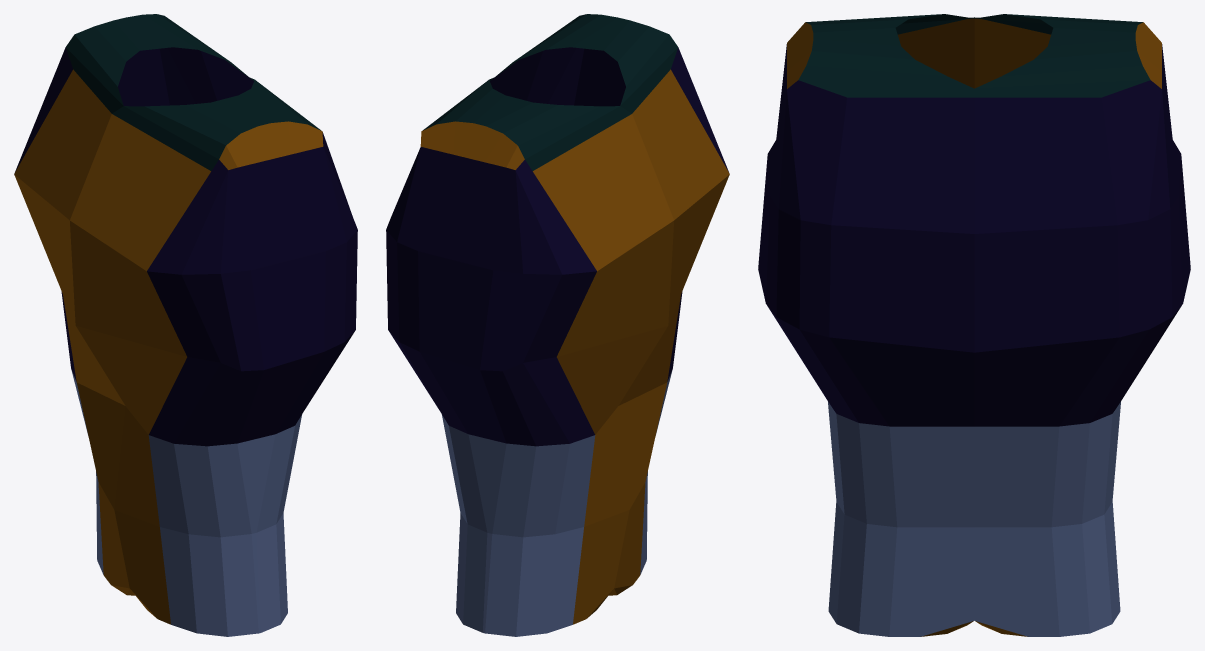
Rendered from arms.gltf.
3 views of the same model, side by side, from view 1: azimuth 30°, elevation 25°; view 2: azimuth 150°, elevation 25°; view 3: azimuth 270°, elevation 25° (orthographic). The views are drawn at different scales.
Visible parts, largest first — view 1: Cube; view 2: Cube; view 3: Cube.
Part boxes in pixels (left/top/right/bottom): Cube: left=14, top=14, right=357, bottom=636; Cube: left=386, top=14, right=729, bottom=636; Cube: left=758, top=14, right=1190, bottom=636.
Bounding box in the file's own units: 2.4 × 4.93 × 3.35.
